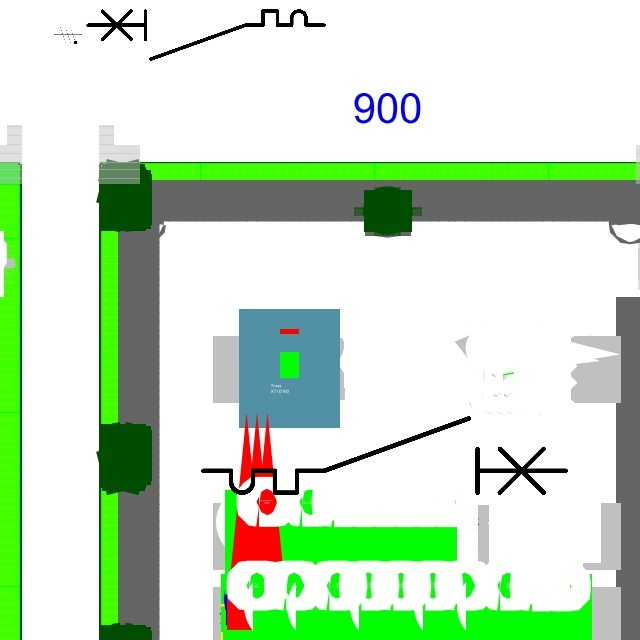interruptor_termomagnetico: (194, 409, 575, 502), (82, 5, 330, 65)
